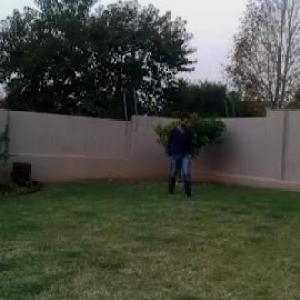follow: (167, 108, 194, 201)
